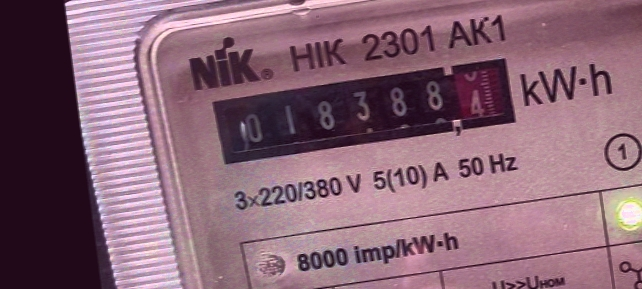0: (239, 110, 263, 149)
1: (276, 101, 298, 140)
3: (348, 89, 372, 126)
4: (462, 86, 486, 122)
8: (311, 97, 336, 135), (419, 78, 444, 116), (384, 85, 408, 123)
screen: (200, 49, 527, 179)
